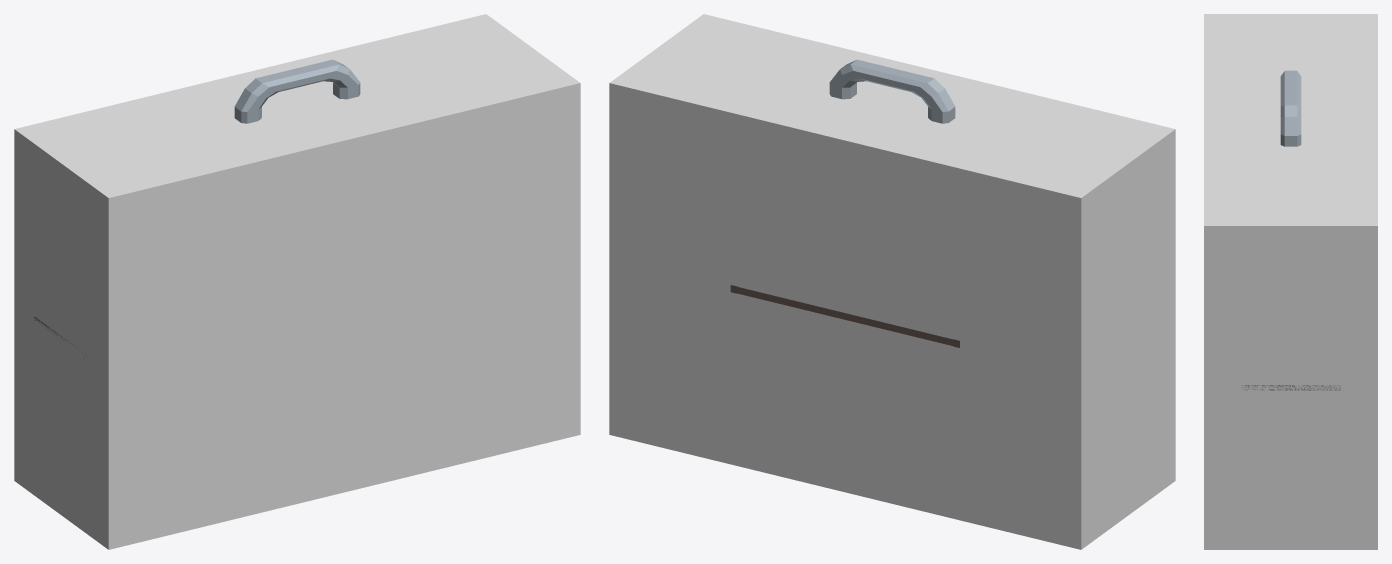
Rendered from Suitcase.fbx.
The picture shows the model from 3 angles, left to right: view 1: azimuth 30°, elevation 25°; view 2: azimuth 150°, elevation 25°; view 3: azimuth 270°, elevation 25°; orthographic projection. The views are drawn at different scales.
Visible parts, largest first — view 1: Suitcase_COL0, Suitcase_LOD0; view 2: Suitcase_COL0, Suitcase_LOD0; view 3: Suitcase_COL0, Suitcase_LOD0.
Part boxes in pixels (x1=…): Suitcase_COL0: x1=14, y1=14, x2=580, y2=549; Suitcase_LOD0: x1=34, y1=59, x2=360, y2=354; Suitcase_COL0: x1=609, y1=14, x2=1175, y2=549; Suitcase_LOD0: x1=730, y1=59, x2=959, y2=347; Suitcase_COL0: x1=1204, y1=14, x2=1377, y2=549; Suitcase_LOD0: x1=1241, y1=70, x2=1340, y2=390.
Size of what is drawn, in the model's own units: 117 by 91.45 by 40.45.
